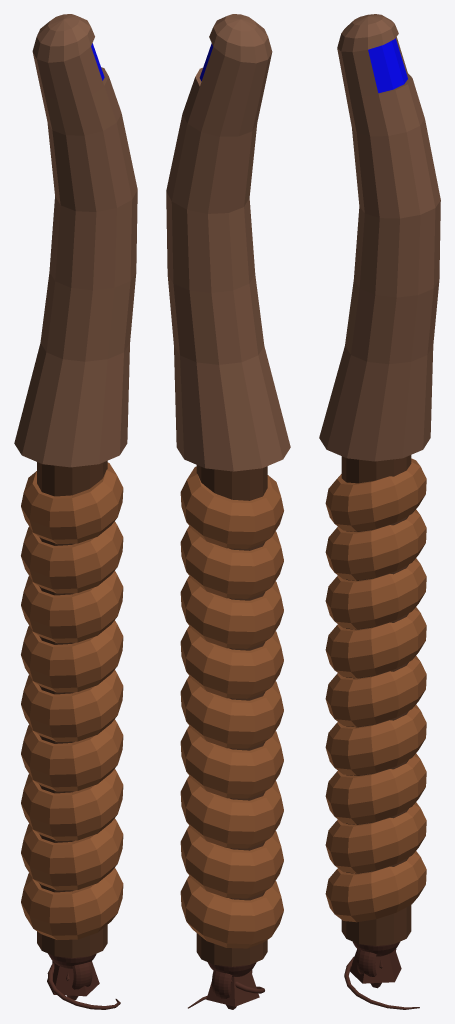
File: Wand 446.glb
3 views of the same model, side by side, from view 1: azimuth 30°, elevation 25°; view 2: azimuth 150°, elevation 25°; view 3: azimuth 330°, elevation 25° (orthographic). The views are drawn at different scales.
Visible parts, largest first — view 1: GeneratedWand, Pommel_9, Pommel_10, Pommel_2, Pommel_4; view 2: GeneratedWand, Pommel_9, Pommel_2, Pommel_4; view 3: GeneratedWand, Pommel_9, Pommel_2, Pommel_10, Pommel_4.
Boxes of the visible parts, x1,y1,x2,y2 form: GeneratedWand: (14, 14, 137, 958); Pommel_9: (47, 961, 99, 996); Pommel_10: (47, 962, 120, 1009); Pommel_2: (52, 961, 92, 989); Pommel_4: (48, 953, 96, 968); GeneratedWand: (166, 14, 290, 966); Pommel_9: (206, 971, 259, 1006); Pommel_2: (212, 969, 252, 998); Pommel_4: (208, 962, 256, 976); GeneratedWand: (319, 14, 440, 945); Pommel_9: (350, 949, 401, 983); Pommel_2: (356, 948, 396, 976); Pommel_10: (344, 956, 419, 1009); Pommel_4: (353, 942, 399, 956).
Bounding box in the file's own units: 0.0644 × 0.5537 × 0.0581.
